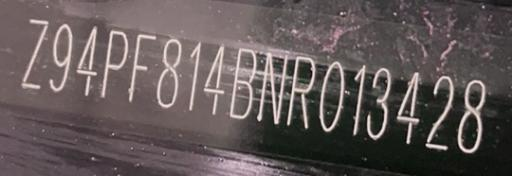letter: (454, 78, 488, 153), (257, 50, 291, 120), (286, 55, 318, 127), (424, 76, 454, 149), (228, 46, 258, 118), (364, 66, 394, 137), (318, 61, 348, 131), (127, 33, 157, 102), (98, 29, 128, 97), (396, 71, 424, 143), (46, 22, 76, 89), (20, 18, 48, 87), (156, 37, 182, 108), (203, 46, 227, 114), (76, 26, 100, 93), (184, 40, 204, 111), (350, 64, 368, 134)
